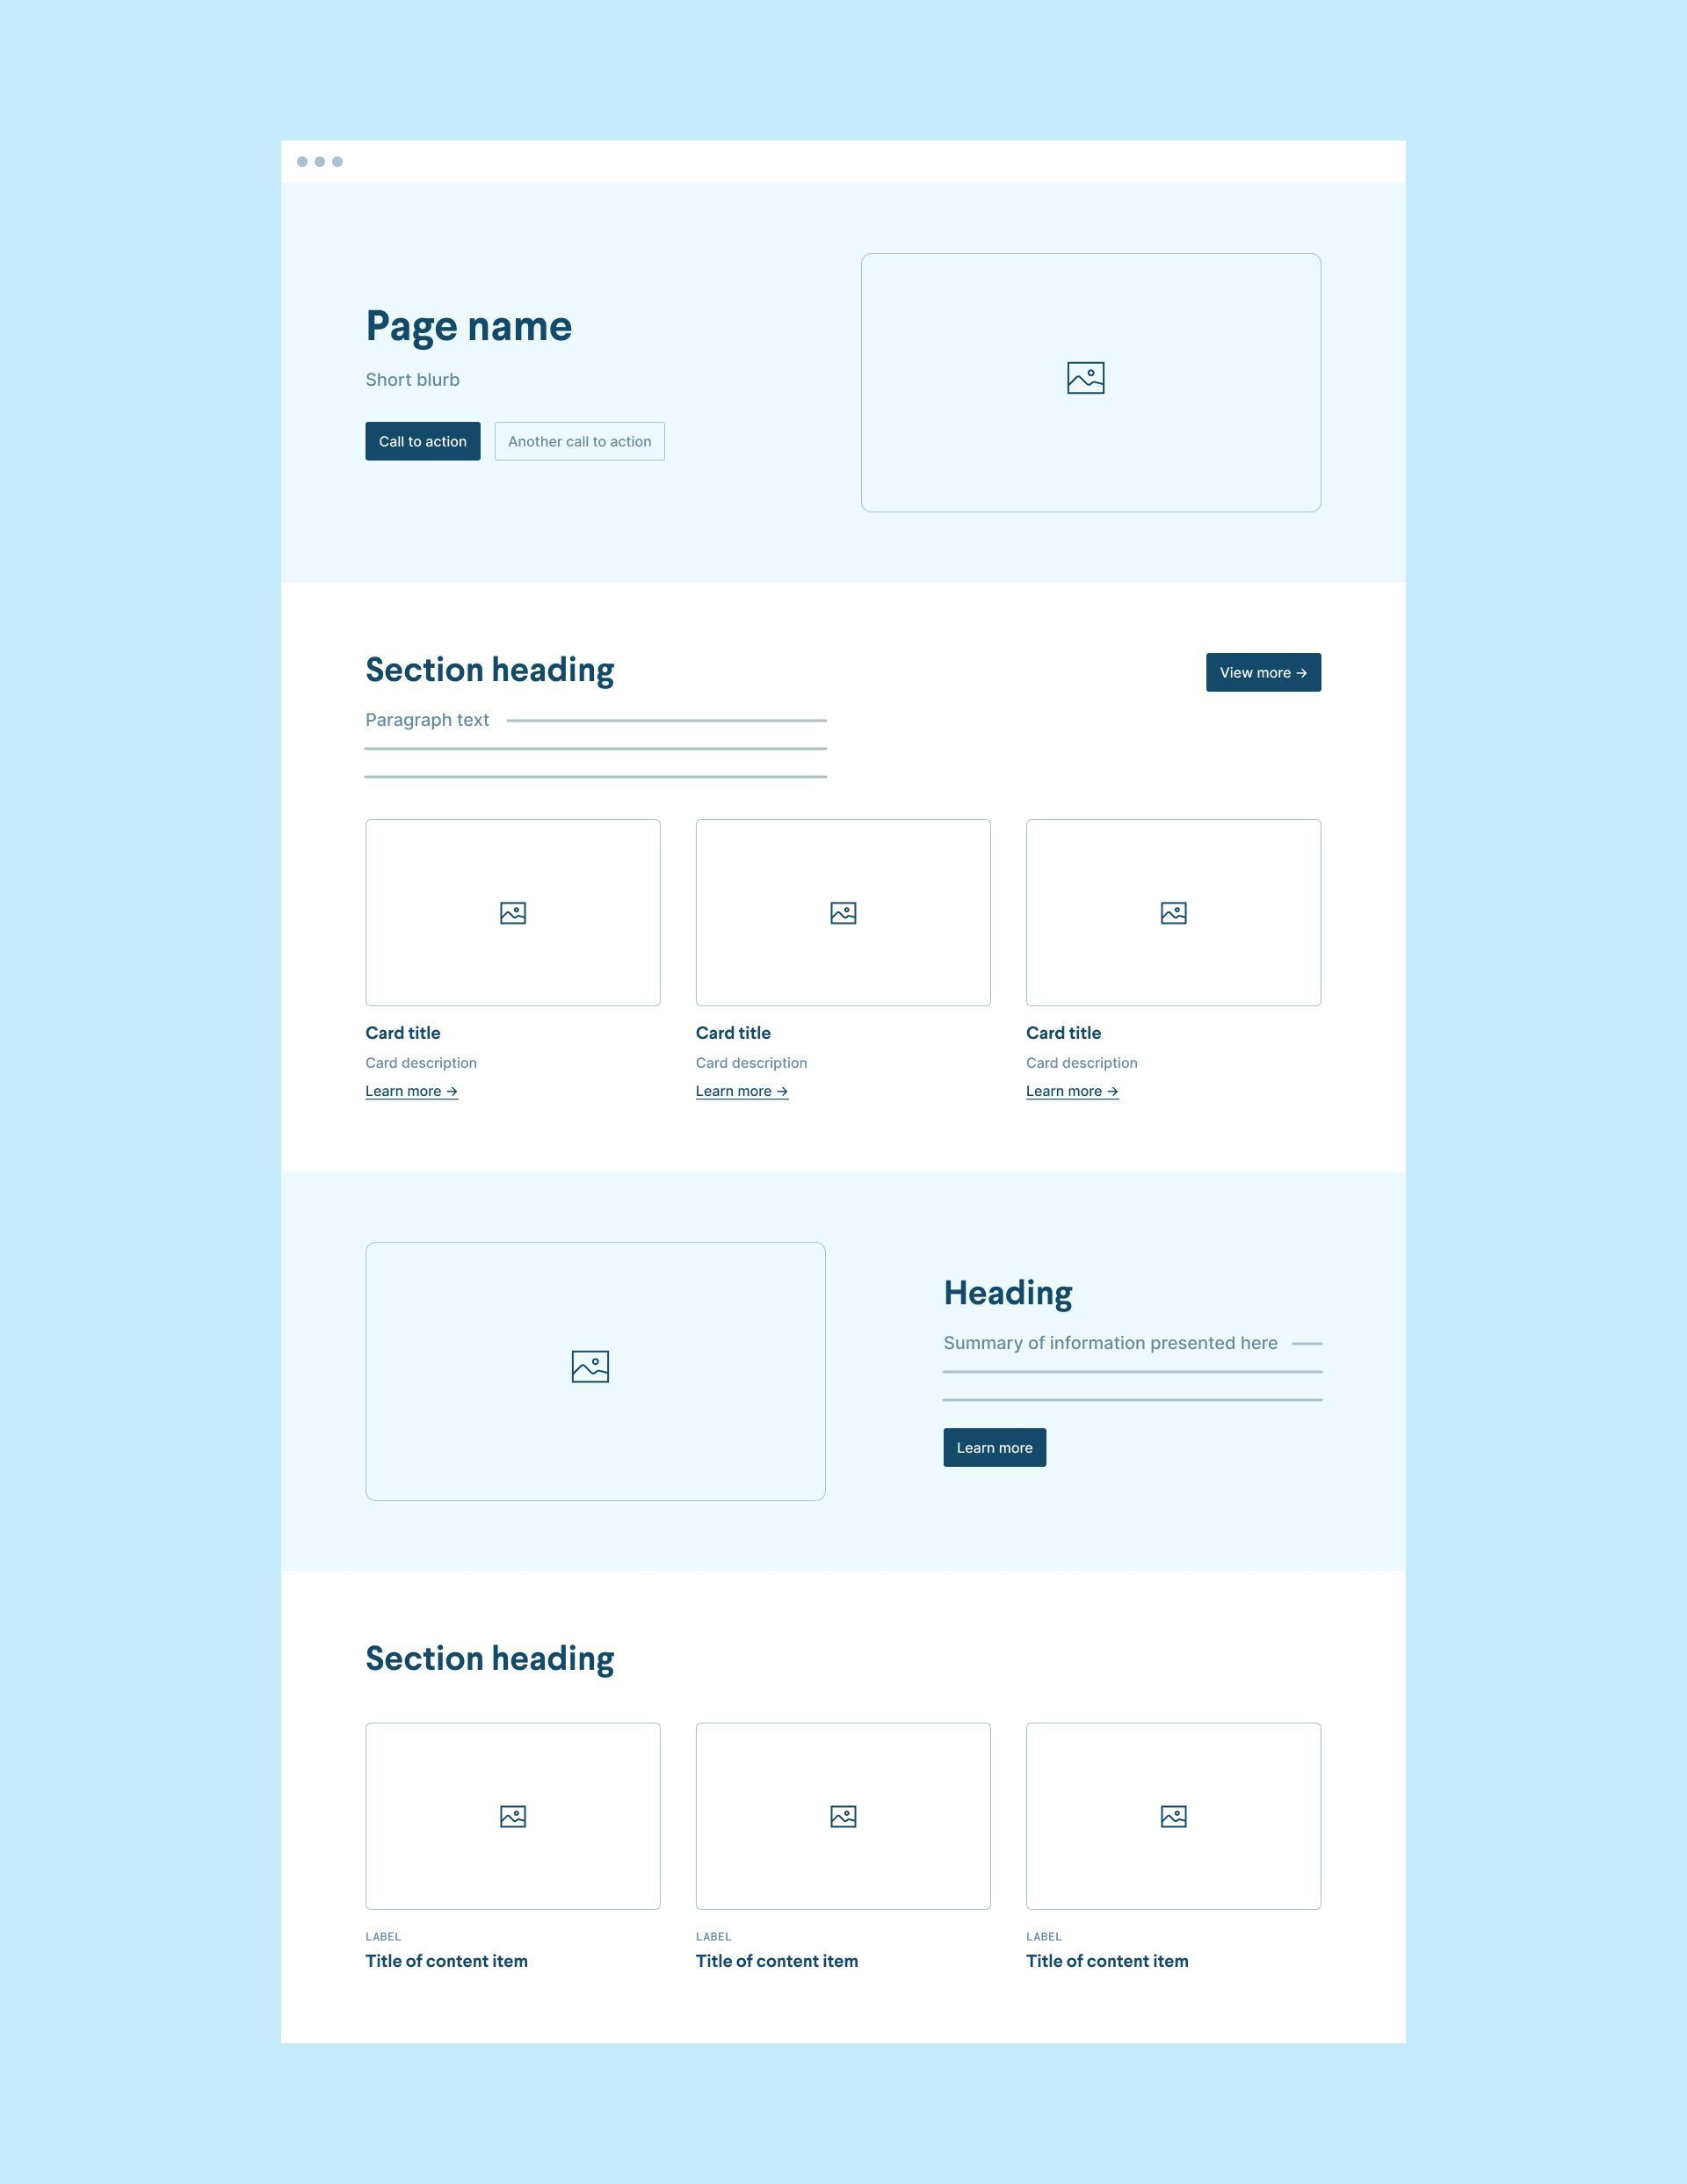button: (496, 424, 668, 459), (363, 418, 484, 463), (941, 1425, 1051, 1470), (1203, 654, 1322, 693)
icon: (1063, 358, 1113, 395), (493, 895, 537, 936), (1155, 895, 1196, 936), (569, 1347, 613, 1384), (828, 895, 865, 936), (1157, 1798, 1196, 1835), (828, 1798, 863, 1835), (498, 1798, 532, 1829)
